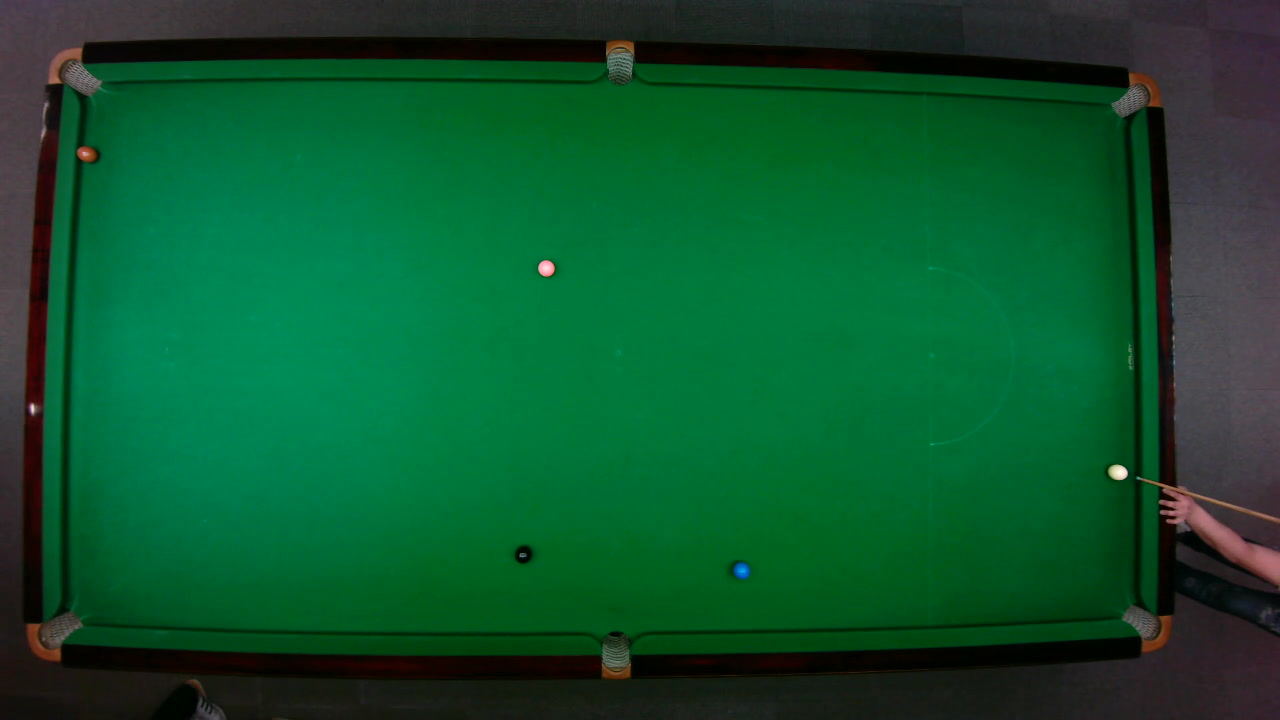bag: (25, 609, 84, 661), (45, 46, 102, 96), (1119, 603, 1172, 652), (1108, 71, 1161, 118), (600, 629, 630, 680), (605, 38, 633, 85)
black: (513, 544, 532, 563)
blue: (731, 560, 750, 579)
brown: (75, 145, 98, 163)
cue: (1135, 474, 1277, 523)
pink: (536, 258, 555, 277)
white: (1105, 462, 1128, 480)
zone: (927, 266, 1013, 445)
